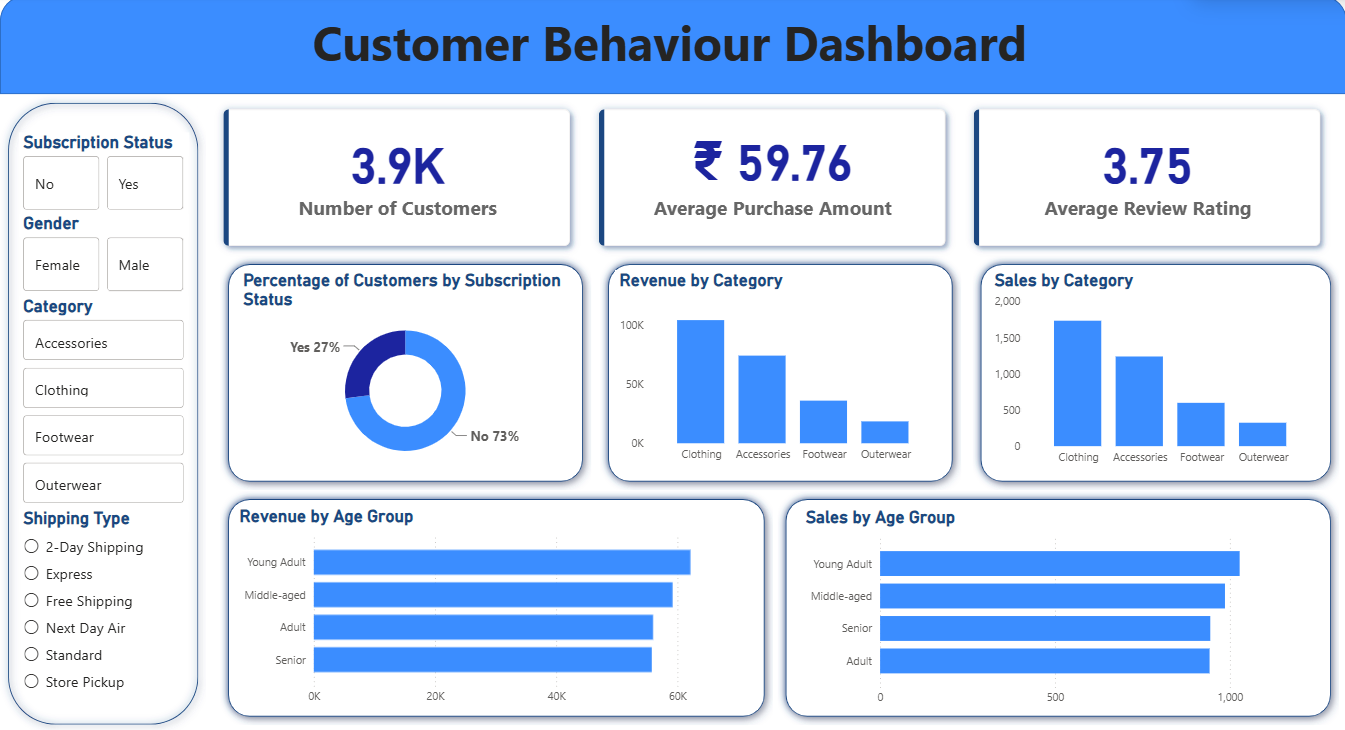

This screenshot's page, from the dashboard's own definition file:
{"tool":"powerbi","page":{"name":"Page 1","canvas":[1500,820],"ordinal":0},"visuals":[{"type":"cardVisual","fields":{"Data":["public customer.Number of Customers","public customer.Average Purchase Amount","public customer.Average Review Rating"]},"box":[220.3,98.1,1280,210.7],"z":0},{"type":"shape","box":[0,0,1500.3,109.3],"z":1000},{"type":"textbox","box":[0,9.6,1492.3,88.4],"z":2000},{"type":"shape","box":[244.4,289.5,413.3,260.5],"z":3000},{"type":"donutChart","title":"Percentage of Customers by Subscription Status","fields":{"Category":["public customer.subscription_status"],"Y":["CountNonNull(public customer.customer_id)"]},"box":[265.3,305.5,371.5,226.7],"z":4000},{"type":"shape","box":[669,289.5,402,260.5],"z":5000},{"type":"shape","box":[1083.8,289.5,408.4,260.5],"z":6000},{"type":"clusteredColumnChart","title":"Revenue by Category","fields":{"Category":["public customer.category"],"Y":["Sum(public customer.purchase_amount)"]},"box":[685,305.5,361.8,223.5],"z":7000},{"type":"clusteredColumnChart","title":"Sales by Category","fields":{"Category":["public customer.category"],"Y":["CountNonNull(public customer.customer_id)"]},"box":[1103.1,305.5,365,226.7],"z":8000},{"type":"shape","box":[0,109.3,230,710.8],"z":9000},{"type":"advancedSlicerVisual","title":"Subscription Status","fields":{"Values":["public customer.subscription_status"]},"box":[20.9,151.2,189.8,91.7],"z":10000},{"type":"advancedSlicerVisual","title":"Gender","fields":{"Values":["public customer.gender"]},"box":[22.5,242.8,189.8,91.7],"z":11000},{"type":"advancedSlicerVisual","title":"Category","fields":{"Values":["public customer.category"]},"box":[20.9,334.5,189.8,236.4],"z":12000},{"type":"listSlicer","title":"Shipping Type","fields":{"Values":["public customer.shipping_type"]},"box":[20.9,570.9,189.8,220.3],"z":13000},{"type":"shape","box":[244.4,551.6,615.9,260.5],"z":15000},{"type":"shape","box":[866.7,551.6,625.5,260.5],"z":15001},{"type":"clusteredBarChart","title":"Sales by Age Group","fields":{"Category":["public customer.age_group"],"Y":["CountNonNull(public customer.customer_id)"]},"box":[892.5,569.3,575.7,230],"z":15002},{"type":"clusteredBarChart","title":"Revenue by Age Group","fields":{"Category":["public customer.age_group"],"Y":["Sum(public customer.purchase_amount)"]},"box":[262.1,567.6,575.7,230],"z":15003}]}

Visuals, with their boxes in screenshot pixels (x1, y1, x2, y2), scaled from the page's 1500x820 canvas onto the 1345x730 screenshot:
cardVisual - public customer.Number of Customers x public customer.Average Purchase Amount: locate(198, 87, 1344, 275)
shape: locate(0, 0, 1344, 97)
textbox: locate(0, 9, 1338, 87)
shape: locate(219, 258, 590, 490)
"Percentage of Customers by Subscription Status" donutChart: locate(238, 272, 571, 474)
shape: locate(600, 258, 960, 490)
shape: locate(972, 258, 1338, 490)
"Revenue by Category" clusteredColumnChart: locate(614, 272, 939, 471)
"Sales by Category" clusteredColumnChart: locate(989, 272, 1316, 474)
shape: locate(0, 97, 206, 729)
"Subscription Status" advancedSlicerVisual: locate(19, 135, 189, 216)
"Gender" advancedSlicerVisual: locate(20, 216, 190, 298)
"Category" advancedSlicerVisual: locate(19, 298, 189, 508)
"Shipping Type" listSlicer: locate(19, 508, 189, 704)
shape: locate(219, 491, 771, 723)
shape: locate(777, 491, 1338, 723)
"Sales by Age Group" clusteredBarChart: locate(800, 507, 1316, 712)
"Revenue by Age Group" clusteredBarChart: locate(235, 505, 751, 710)
